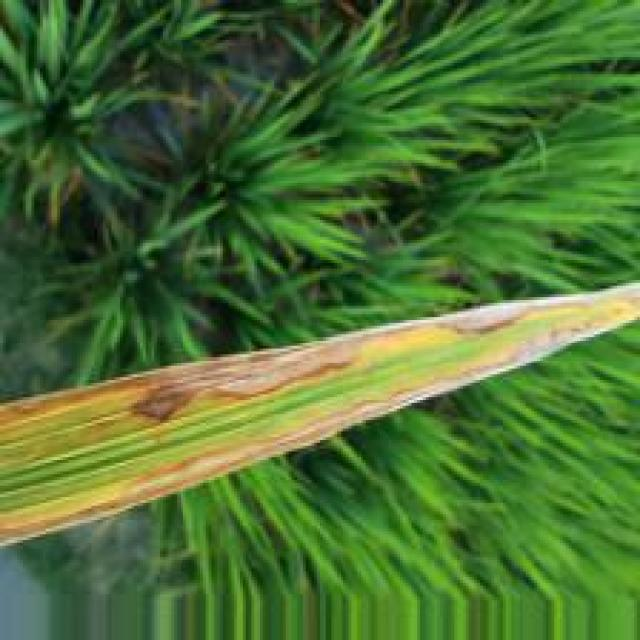Bacterial_Leaf_Blight: (0, 282, 640, 550)
